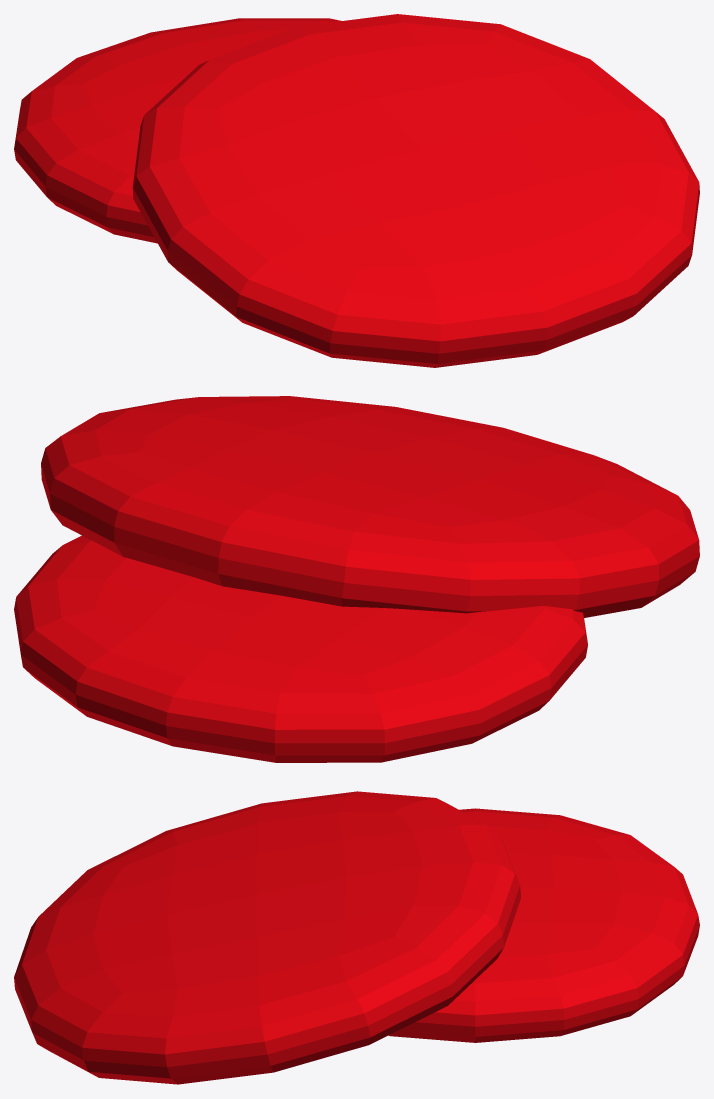
The model's file is tomate.glb.
3 views of the same model, one above another, from view 1: azimuth 30°, elevation 25°; view 2: azimuth 150°, elevation 25°; view 3: azimuth 270°, elevation 25° (orthographic). The views are drawn at different scales.
Visible parts, largest first — view 1: tomatico2, tomatico; view 2: tomatico2, tomatico; view 3: tomatico2, tomatico.
Boxes of the visible parts, <box> form: tomatico2: <box>132,14,699,367</box>; tomatico: <box>14,18,341,243</box>; tomatico2: <box>41,396,699,617</box>; tomatico: <box>14,535,587,762</box>; tomatico2: <box>14,791,521,1084</box>; tomatico: <box>388,808,699,1042</box>.
Bounding box in the file's own units: 1.45 × 0.4274 × 1.74.
